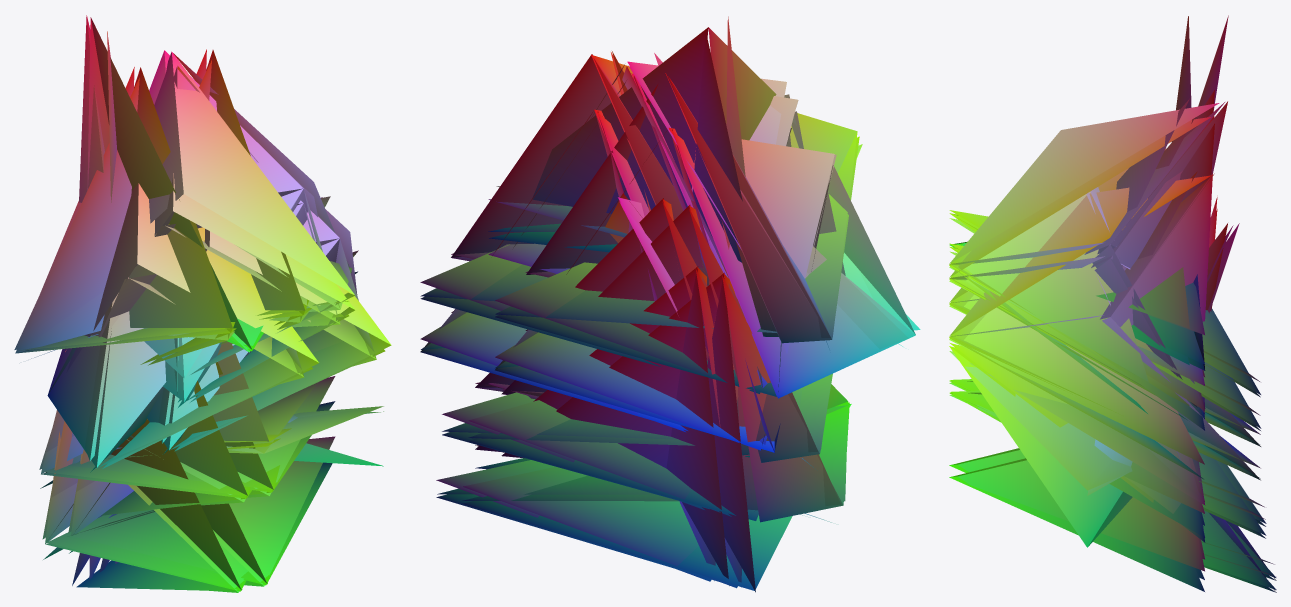
File: npc_banker_base.glb
3 views of the same model, side by side, from view 1: azimuth 30°, elevation 25°; view 2: azimuth 150°, elevation 25°; view 3: azimuth 270°, elevation 25° (orthographic). The views are drawn at different scales.
Visible parts, largest first — view 1: lower_arm_l, upper_arm_l, head, lower_leg_r, lower_leg_l, lower_arm_r, hair, neck, upper_leg_l, torso, upper_leg_r, upper_arm_r; view 2: lower_leg_l, lower_arm_l, upper_arm_l, hair, upper_leg_l, upper_arm_r, lower_leg_r, upper_leg_r, lower_arm_r, head, neck, torso; view 3: lower_arm_r, head, torso, lower_leg_r, neck, hair, upper_leg_r, upper_arm_r, upper_arm_l, lower_arm_l, lower_leg_l, upper_leg_l.
Part boxes in pixels (bbox=[...]): lower_arm_l: bbox=[47, 183, 318, 472]; upper_arm_l: bbox=[14, 67, 240, 394]; head: bbox=[143, 50, 355, 402]; lower_leg_r: bbox=[68, 436, 335, 586]; lower_leg_l: bbox=[42, 418, 247, 592]; lower_arm_r: bbox=[147, 209, 391, 454]; hair: bbox=[79, 15, 330, 352]; neck: bbox=[135, 173, 354, 407]; upper_leg_l: bbox=[39, 381, 252, 515]; torso: bbox=[65, 341, 383, 466]; upper_leg_r: bbox=[68, 362, 335, 497]; upper_arm_r: bbox=[196, 49, 358, 344]; lower_leg_l: bbox=[462, 272, 851, 592]; lower_arm_l: bbox=[495, 128, 920, 452]; upper_arm_l: bbox=[495, 73, 862, 396]; hair: bbox=[488, 16, 776, 262]; upper_leg_l: bbox=[468, 205, 832, 520]; upper_arm_r: bbox=[420, 51, 709, 366]; lower_leg_r: bbox=[436, 266, 819, 585]; upper_leg_r: bbox=[442, 198, 802, 509]; lower_arm_r: bbox=[420, 109, 687, 431]; head: bbox=[488, 53, 796, 273]; neck: bbox=[513, 73, 803, 278]; torso: bbox=[488, 193, 749, 457]; lower_arm_r: bbox=[949, 171, 1260, 480]; head: bbox=[949, 98, 1227, 418]; torso: bbox=[949, 223, 1239, 547]; lower_leg_r: bbox=[949, 308, 1276, 592]; neck: bbox=[949, 116, 1214, 420]; hair: bbox=[949, 15, 1228, 370]; upper_leg_r: bbox=[949, 209, 1266, 538]; upper_arm_r: bbox=[949, 123, 1261, 430]; upper_arm_l: bbox=[949, 90, 1260, 397]; lower_arm_l: bbox=[949, 149, 1260, 446]; lower_leg_l: bbox=[949, 448, 1276, 580]; upper_leg_l: bbox=[949, 197, 1266, 526].
Size of the model in its own units: 1.53 by 2.26 by 1.28.
